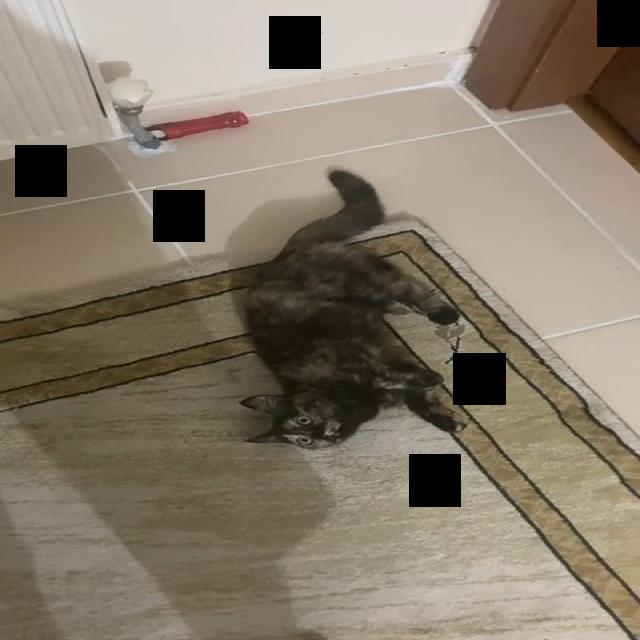authorized: (236, 168, 468, 449)
